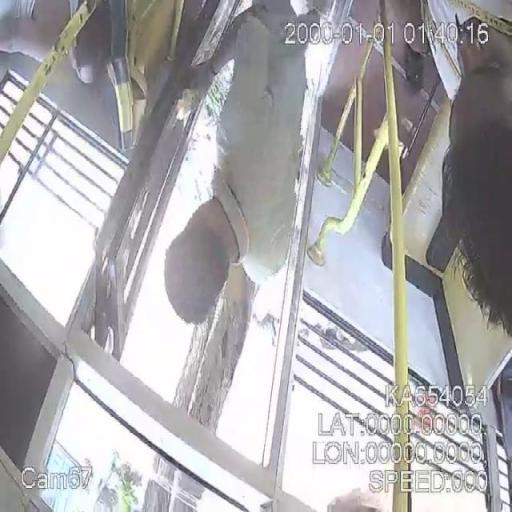persona: (161, 0, 296, 332), (422, 0, 511, 338)
